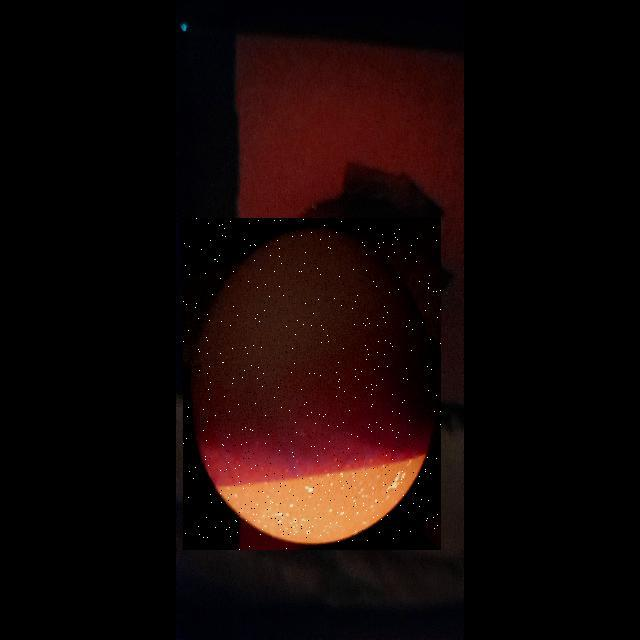Fertile: (183, 218, 441, 550)
